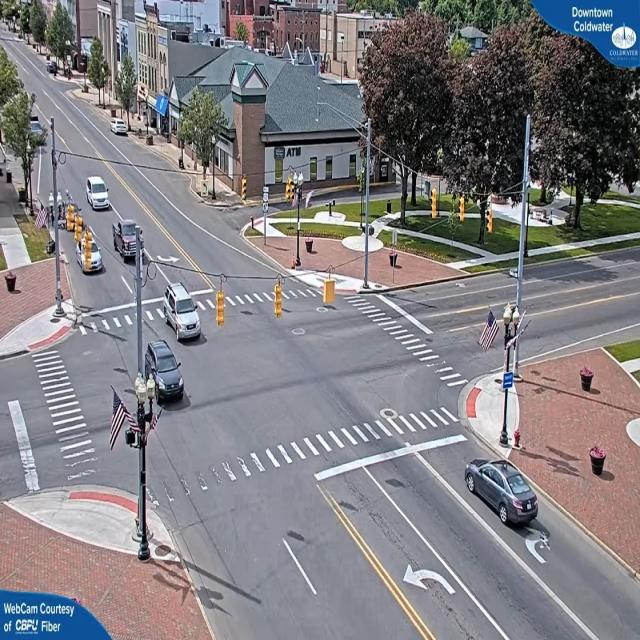car: (464, 459, 538, 529), (148, 340, 188, 407), (162, 283, 204, 343), (115, 221, 144, 260), (80, 237, 106, 274), (86, 176, 110, 212), (112, 120, 129, 136)
